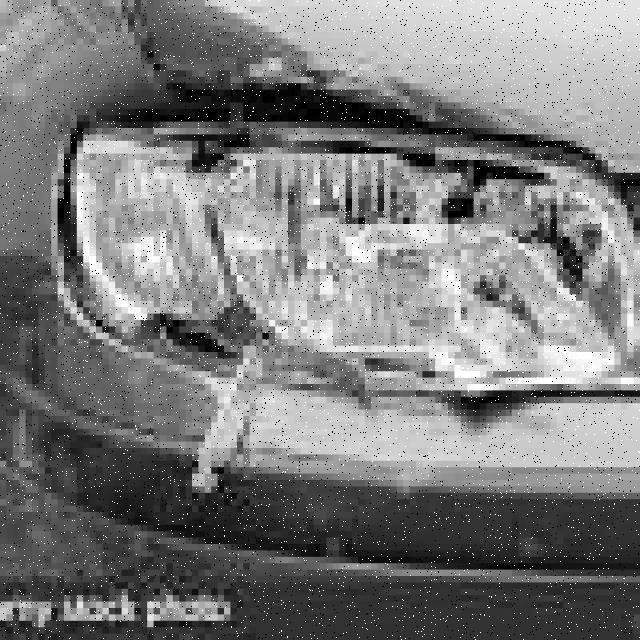Headlight-damage: (1, 51, 634, 409)
